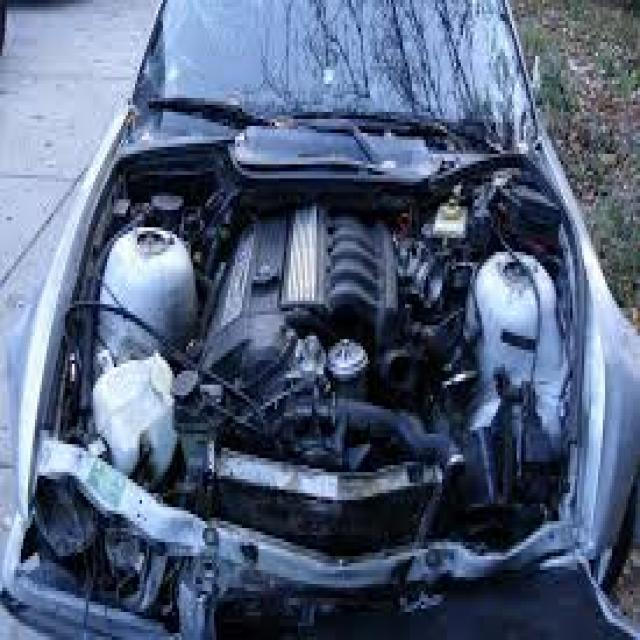severe: (77, 104, 624, 634)
